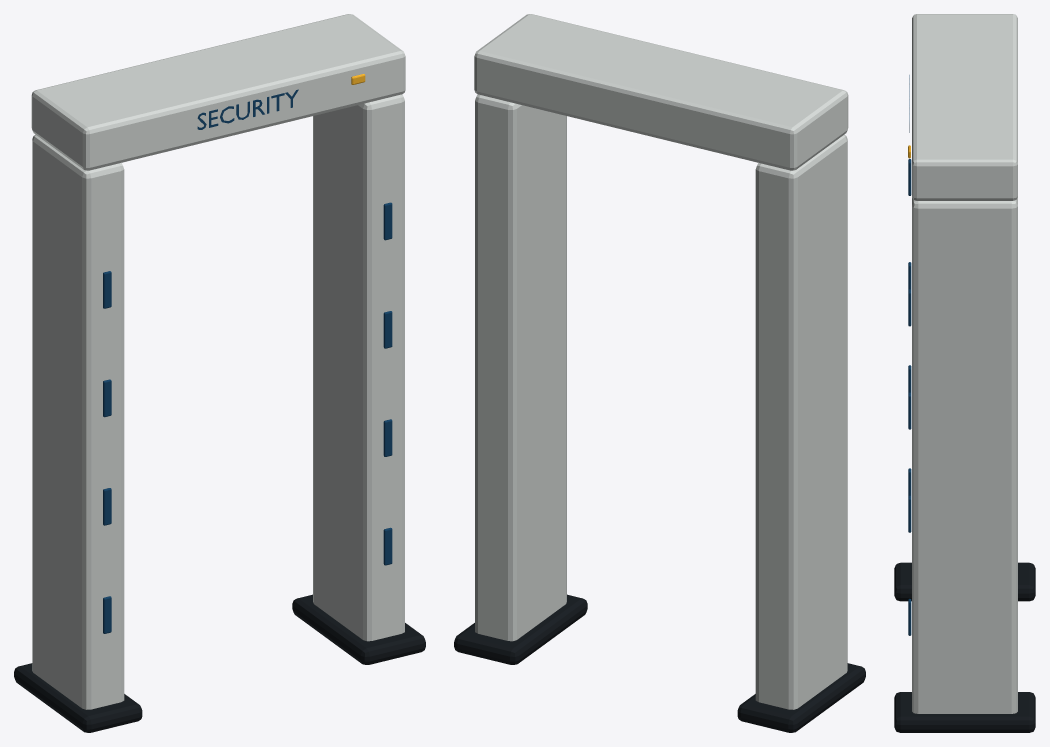
Rendered from edited.glb.
3 renders of one model, left to right at view 1: azimuth 30°, elevation 25°; view 2: azimuth 150°, elevation 25°; view 3: azimuth 270°, elevation 25°, orthographic. The views are drawn at different scales.
Visible parts, largest first — view 1: PORTAL_Column, PORTAL_Column.001, PORTAL_Header, FOOT_Base.001, FOOT_Base, EDITABLE_Title; view 2: PORTAL_Column, PORTAL_Column.001, PORTAL_Header, FOOT_Base.001, FOOT_Base; view 3: PORTAL_Column.001, PORTAL_Header, FOOT_Base.001, FOOT_Base.
Part boxes in pixels (left/top/right/bottom): PORTAL_Column: left=32, top=134, right=124, bottom=709; PORTAL_Column.001: left=313, top=94, right=404, bottom=641; PORTAL_Header: left=31, top=14, right=405, bottom=170; FOOT_Base.001: left=292, top=594, right=425, bottom=664; FOOT_Base: left=14, top=663, right=142, bottom=732; EDITABLE_Title: left=197, top=89, right=298, bottom=129; PORTAL_Column: left=755, top=134, right=847, bottom=709; PORTAL_Column.001: left=475, top=94, right=566, bottom=641; PORTAL_Header: left=474, top=14, right=848, bottom=170; FOOT_Base.001: left=454, top=594, right=587, bottom=664; FOOT_Base: left=737, top=663, right=865, bottom=732; PORTAL_Column.001: left=912, top=197, right=1017, bottom=713; PORTAL_Header: left=912, top=14, right=1017, bottom=200; FOOT_Base.001: left=894, top=692, right=1035, bottom=732; FOOT_Base: left=894, top=562, right=1035, bottom=601.
Bounding box in the file's own units: 1.49 × 2.48 × 0.56.
